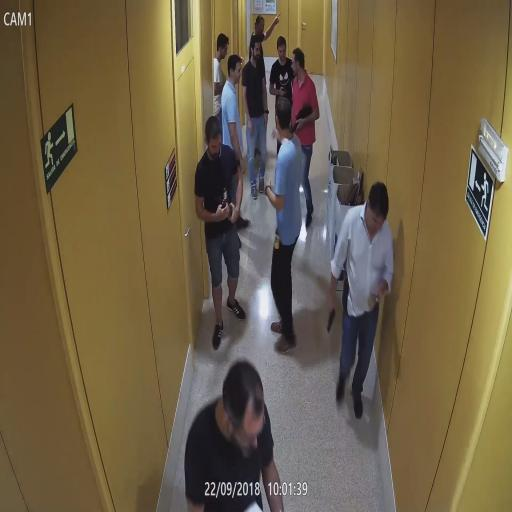Handgun: (325, 298, 338, 336)
